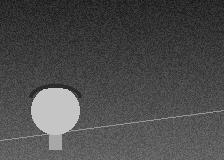no_helmet: (31, 84, 79, 139)
